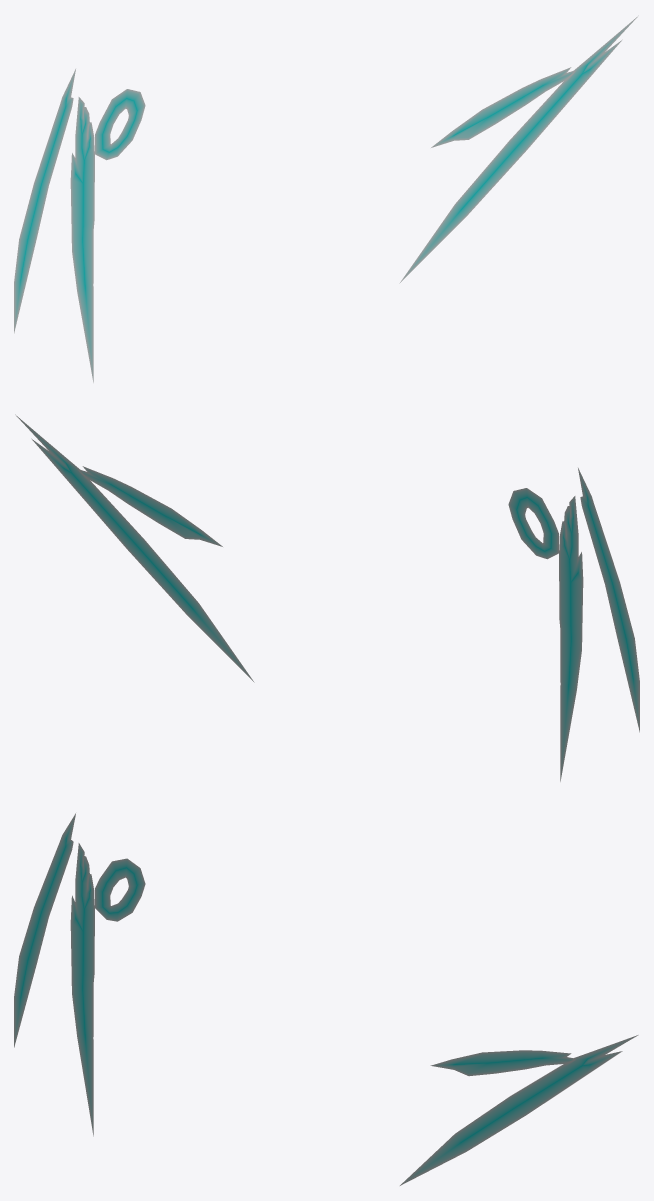
Rendered from SM_EFF_Text_C4Karura_03.glb.
3 renders of one model, top to bottom at view 1: azimuth 30°, elevation 25°; view 2: azimuth 150°, elevation 25°; view 3: azimuth 330°, elevation 25°, orthographic.
Parts seen in each view (by area): view 1: SM_EFF_Text_C4Karura_03; view 2: SM_EFF_Text_C4Karura_03; view 3: SM_EFF_Text_C4Karura_03.
Part boxes in pixels (x1=…): SM_EFF_Text_C4Karura_03: x1=14, y1=15, x2=638, y2=382; SM_EFF_Text_C4Karura_03: x1=15, y1=414, x2=639, y2=781; SM_EFF_Text_C4Karura_03: x1=14, y1=813, x2=638, y2=1185.
Bounding box in the file's own units: 1.06 × 0.5179 × 3.17e-17.
